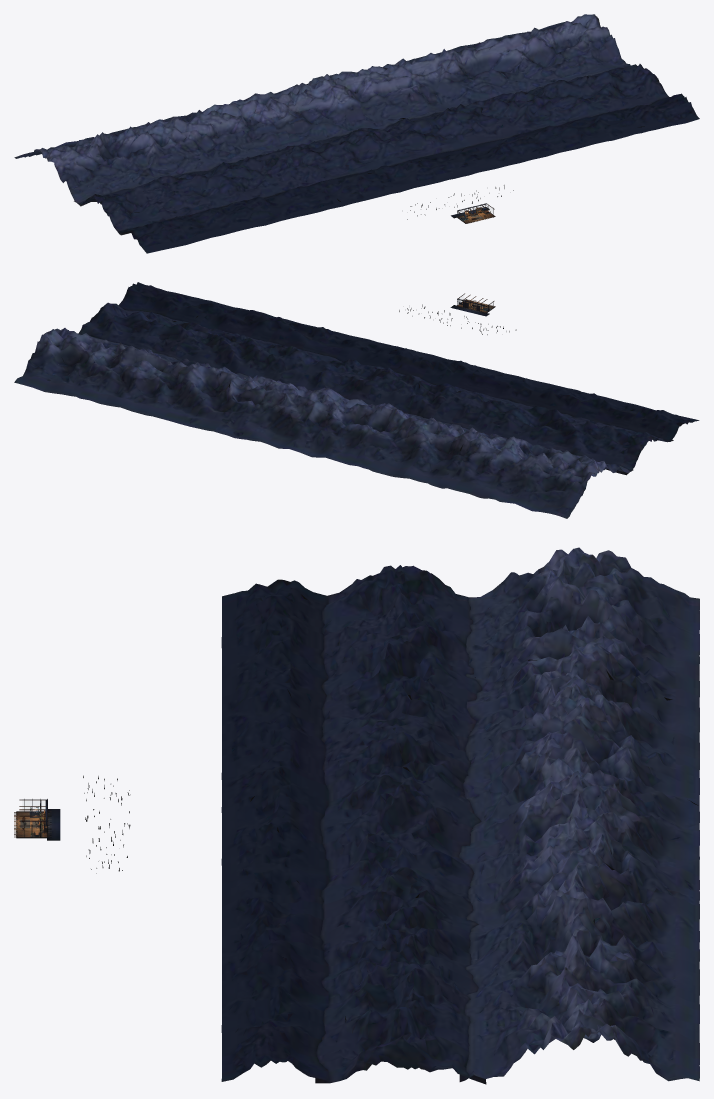
The model's file is studio-desktop.glb.
3 views of the same model, one above another, from view 1: azimuth 30°, elevation 25°; view 2: azimuth 150°, elevation 25°; view 3: azimuth 270°, elevation 25° (orthographic). The views are drawn at different scales.
Parts seen in each view (by area): view 1: Kinetic / exterior, Kinetic / architecture; view 2: Kinetic / exterior; view 3: Kinetic / exterior, Kinetic / architecture.
Boxes of the visible parts, x1,y1,x2,y2 form: Kinetic / exterior: [14, 14, 699, 253]; Kinetic / architecture: [456, 203, 495, 223]; Kinetic / exterior: [14, 282, 699, 518]; Kinetic / exterior: [47, 547, 699, 1084]; Kinetic / architecture: [14, 799, 51, 838].
Size of the model in its own units: 431 by 28.1 by 257.
14 materials, 9 textured.
